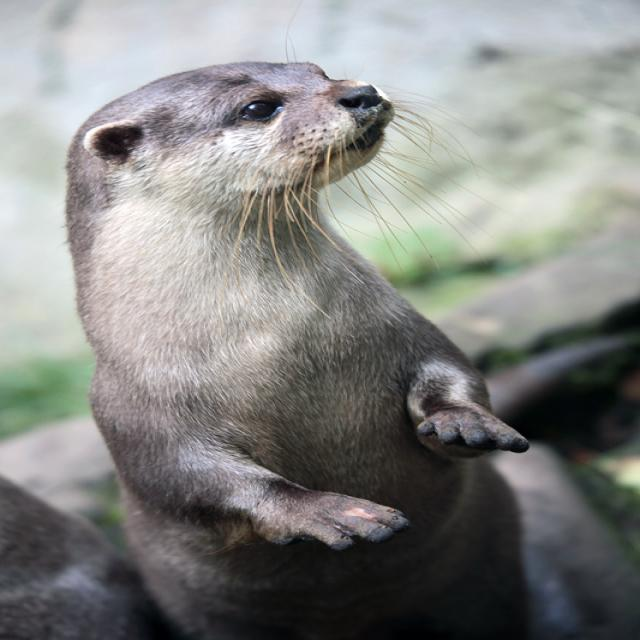otter: (71, 60, 531, 625)
